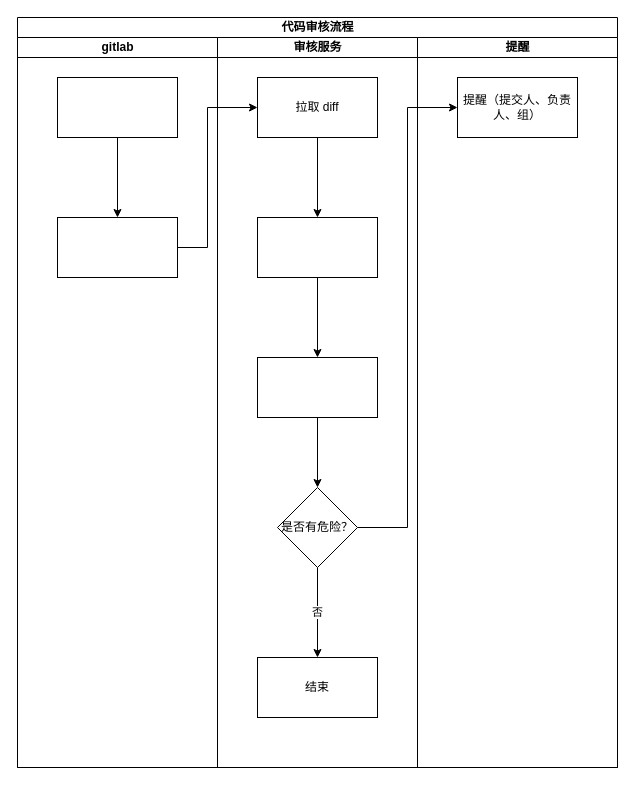
The diagram is 635 pixels wide and 785 high, and some of its shapes have lost their labels. The centre of each missing label's shape, as x and y in pixels:
"提交代码" goes at (117,107).
"获取结果" goes at (317,387).
"触发 webhook" goes at (117,247).
"调用 ai" goes at (317,247).
